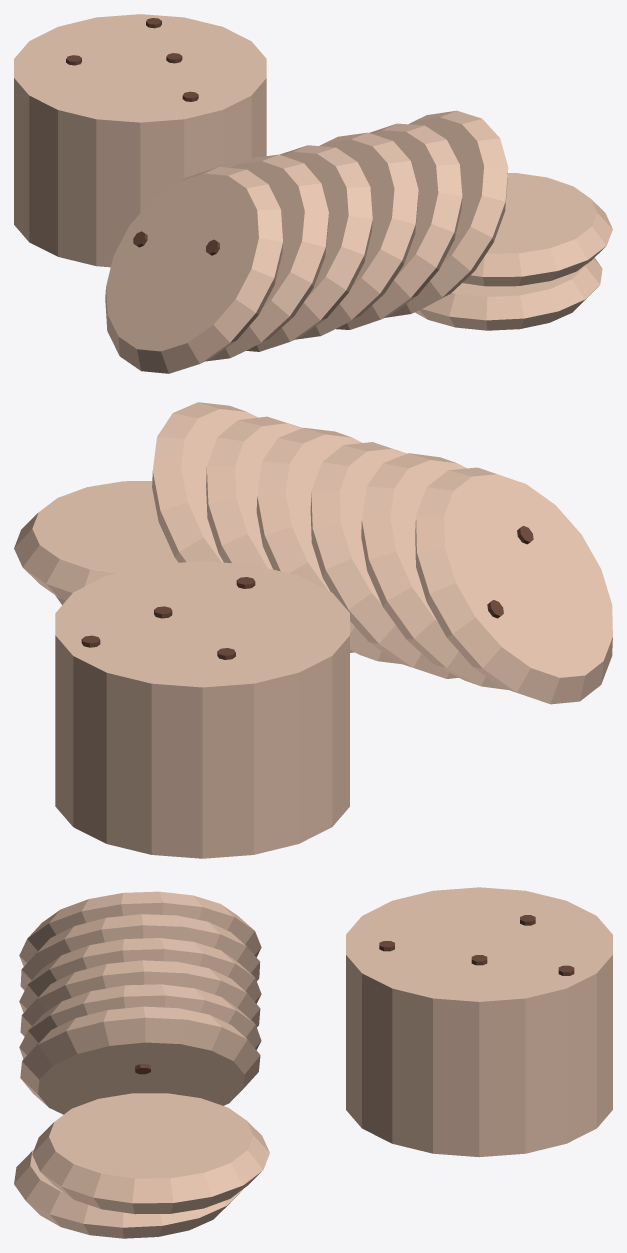
The model's file is SM_Cook_Topping_Cha_HD_01.fbx.
3 views of the same model, one above another, from view 1: azimuth 30°, elevation 25°; view 2: azimuth 150°, elevation 25°; view 3: azimuth 270°, elevation 25° (orthographic). The views are drawn at different scales.
Visible parts, largest first — view 1: SM_Cook_Topping_Cha_HD_01; view 2: SM_Cook_Topping_Cha_HD_01; view 3: SM_Cook_Topping_Cha_HD_01.
Boxes of the visible parts, x1,y1,x2,y2 form: SM_Cook_Topping_Cha_HD_01: (14, 14, 612, 373); SM_Cook_Topping_Cha_HD_01: (14, 402, 612, 858); SM_Cook_Topping_Cha_HD_01: (14, 887, 612, 1238).
Bounding box in the file's own units: 0.1627 × 0.0548 × 0.1678.
1 material, 1 textured.
